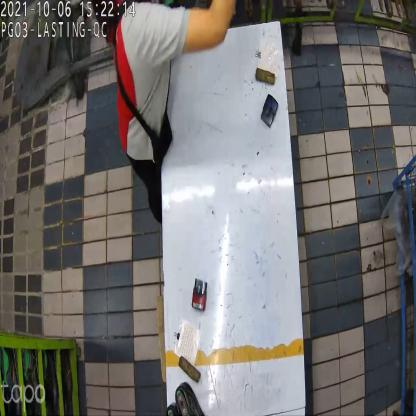stamp: (189, 280, 210, 314), (258, 95, 278, 129)
